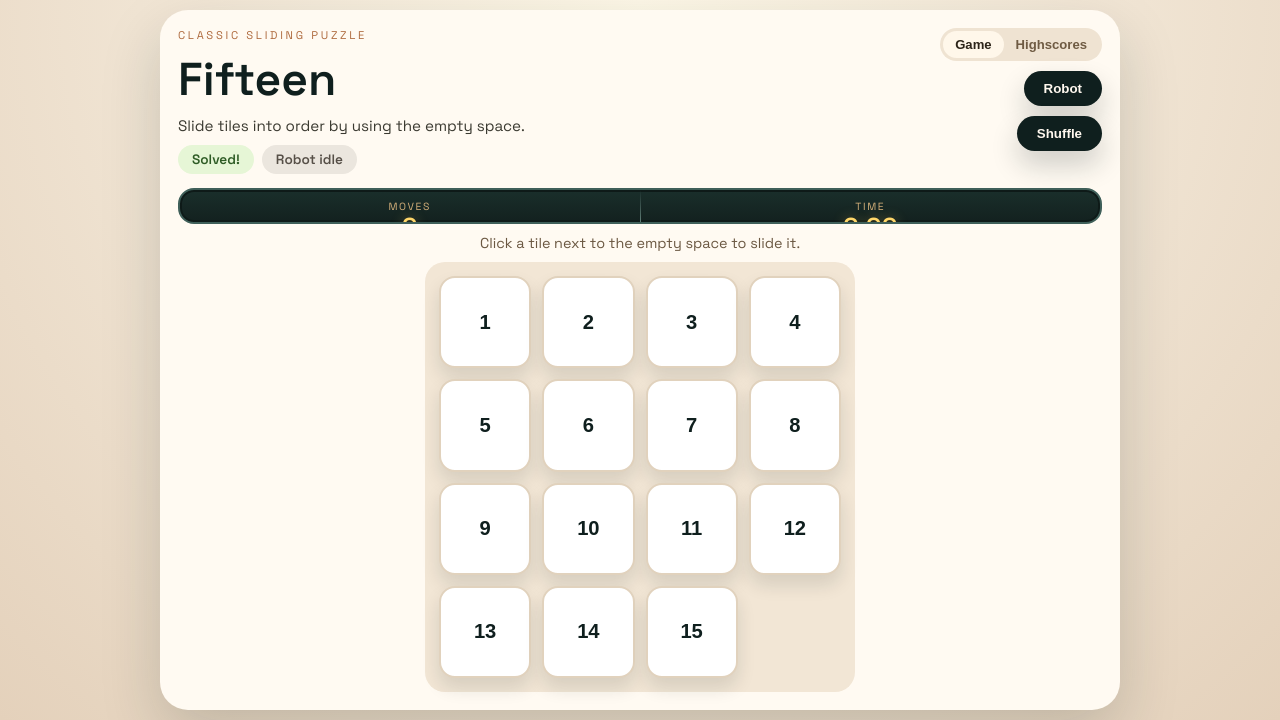
App fireworks › uses default player name when winner skips
Click the button "15".
click(692, 632)  # box [646, 586, 738, 678]
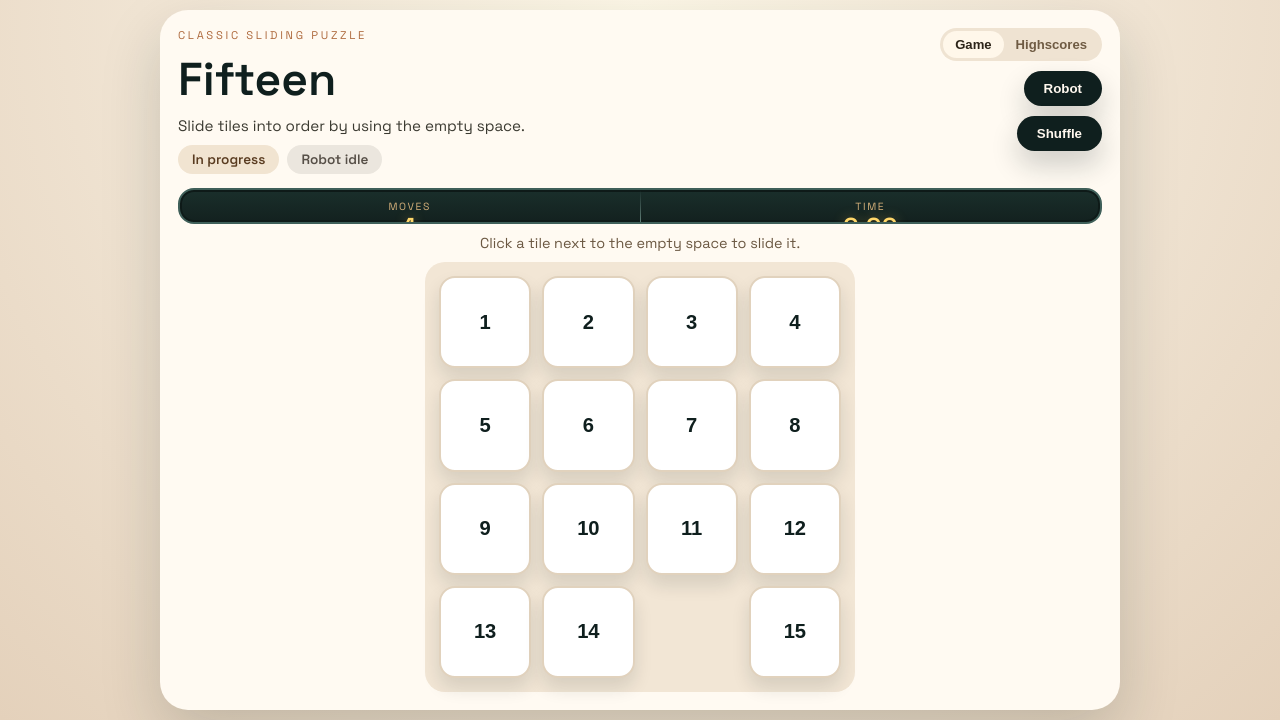
Click the button "15".
click(795, 632)  # box [749, 586, 841, 678]
Wait 1300 ms
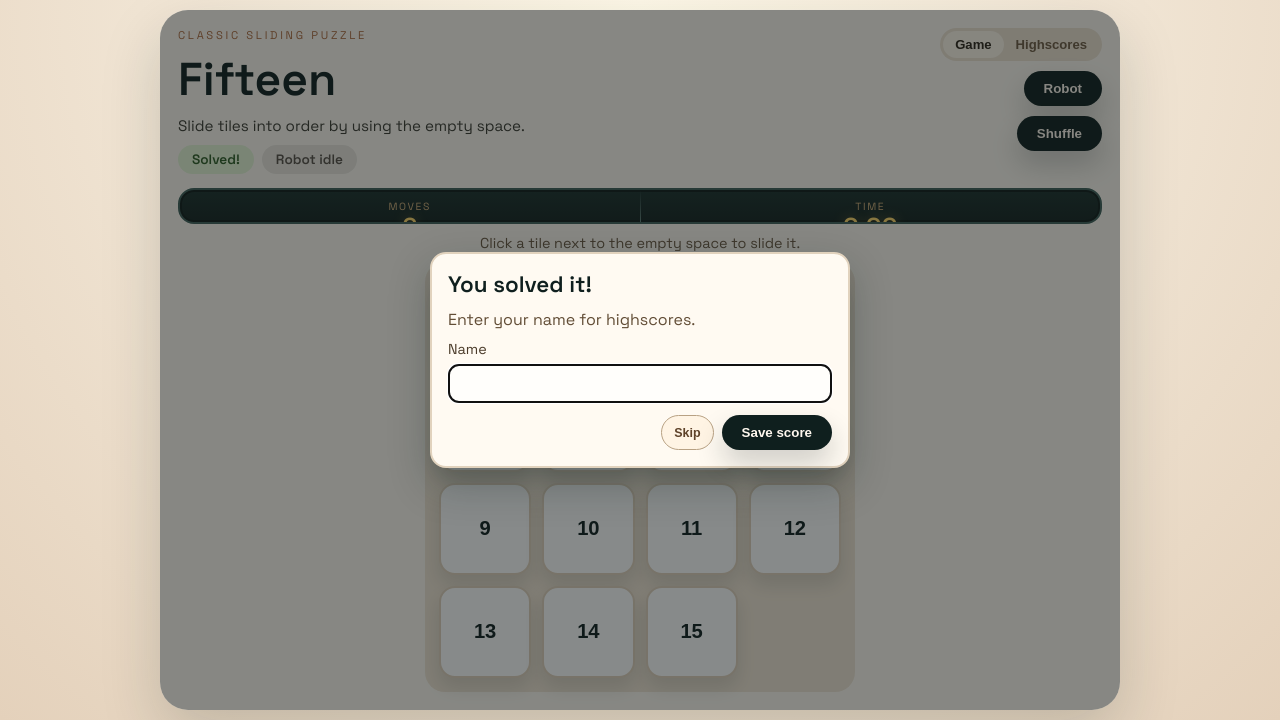
Click the button "Skip".
click(687, 432)  # box [661, 415, 714, 450]
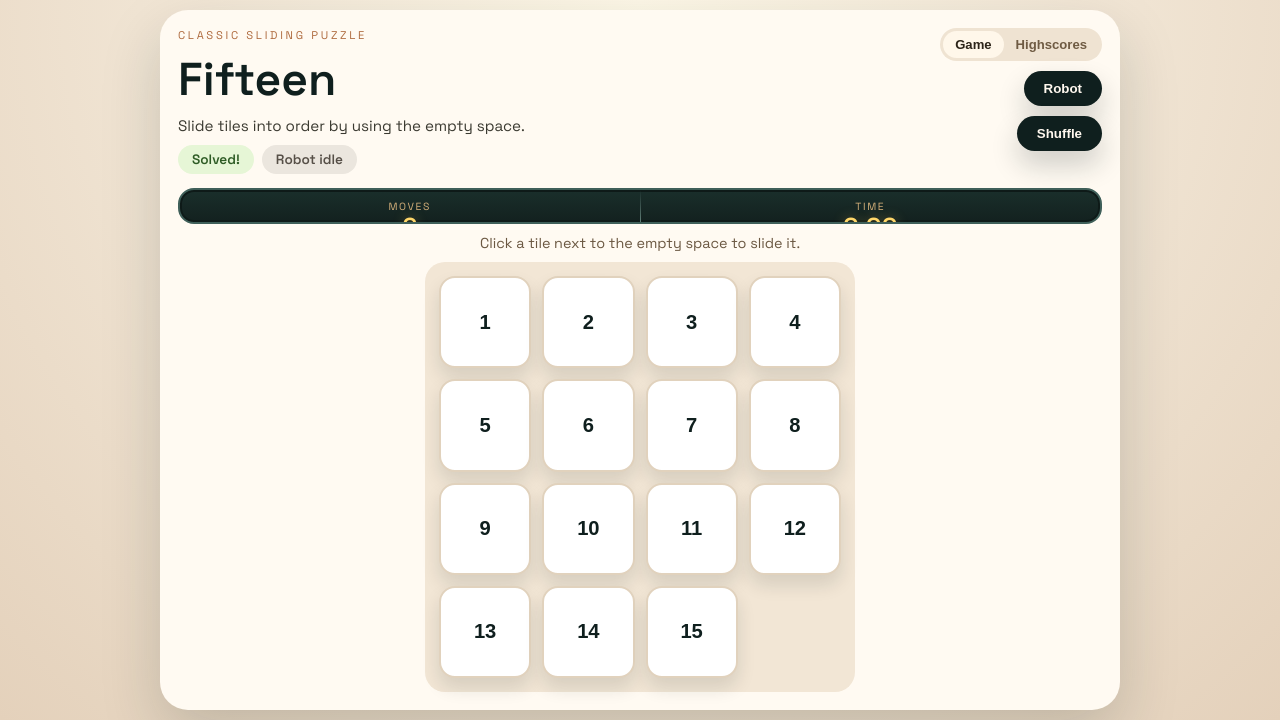
Click the tab "Highscores".
click(1051, 44)  # box [1004, 31, 1099, 58]
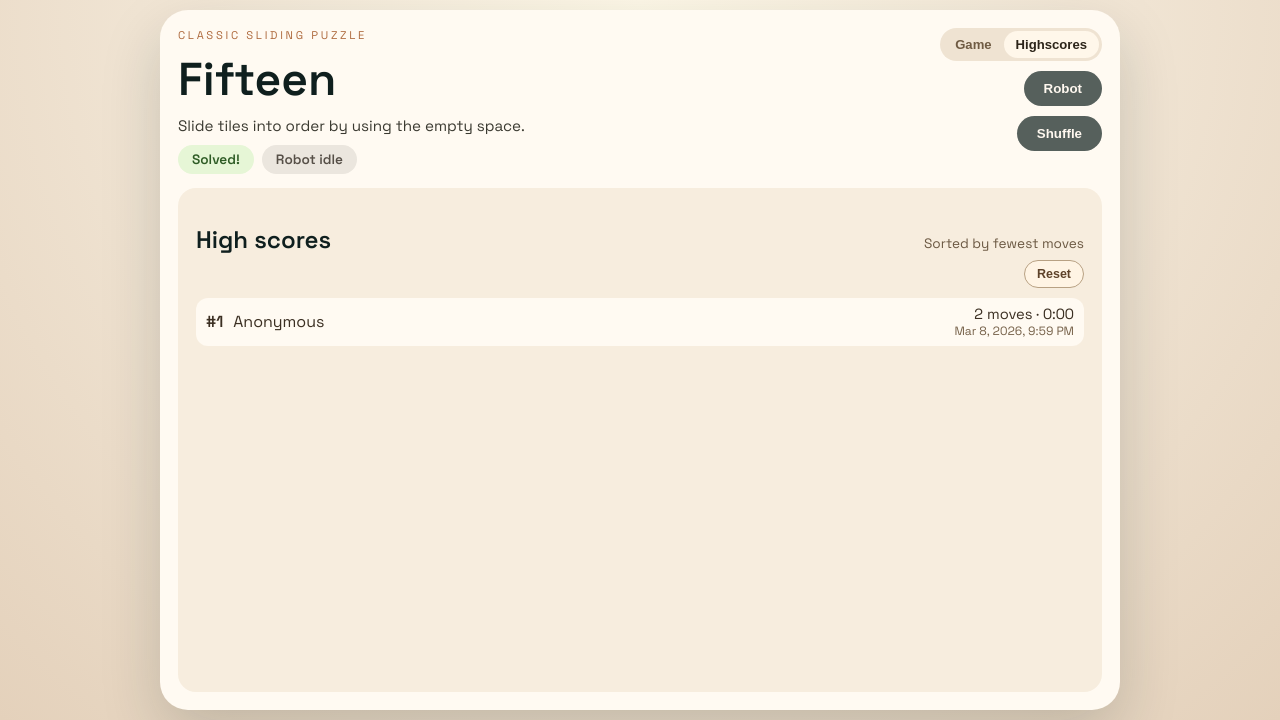
Now the text "Anonymous" is shown, box [233, 311, 324, 332]
